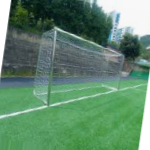goals: (31, 25, 126, 108)
